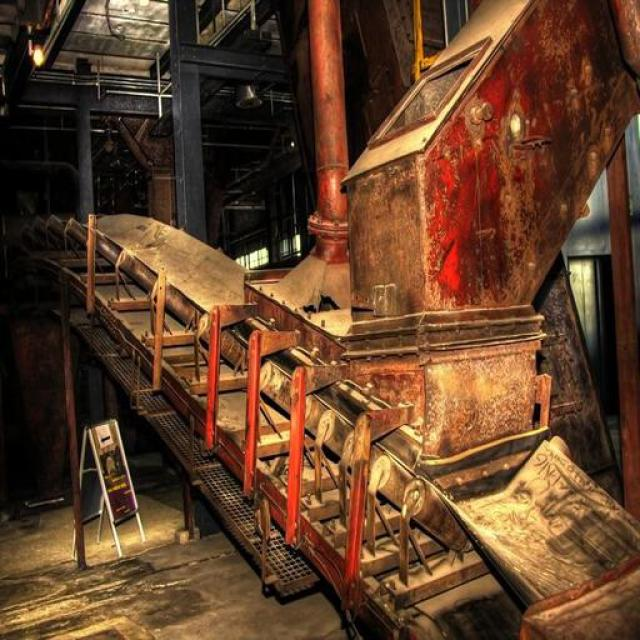conveyor: (70, 214, 533, 500)
